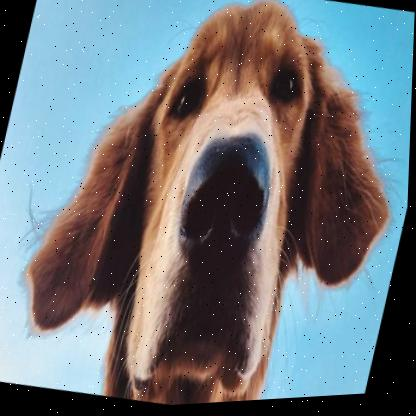dog: (27, 64, 267, 404), (274, 87, 388, 282), (235, 1, 292, 86), (273, 39, 335, 108)
